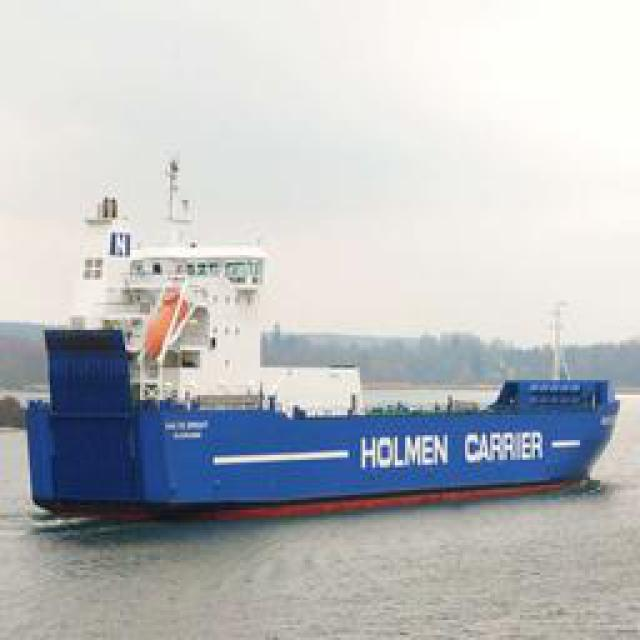Ship: (34, 268, 619, 526)
